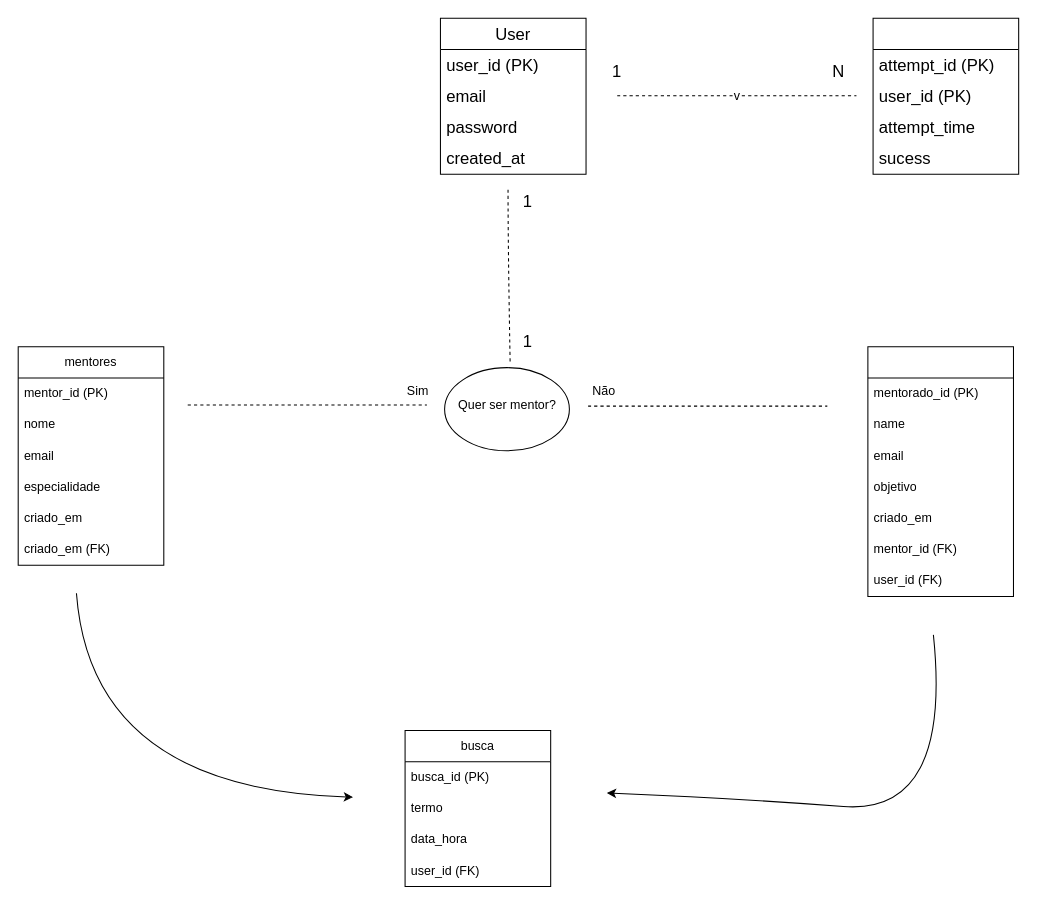
Image size: 1037x905. Some labels were removed from this diagram. The shapes that lost their labels are listed below. From the top down, each one's box as (x1, y1, x2, y2) in pixels, then its label:
(872, 17, 1019, 174): LoginAttemt
(867, 346, 1013, 596): mentorados
